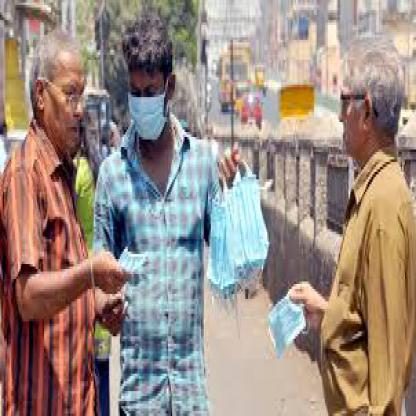Not_Wearing_Mask: (33, 40, 85, 172), (336, 55, 383, 159)
Wearing_Mask: (121, 37, 168, 160)
